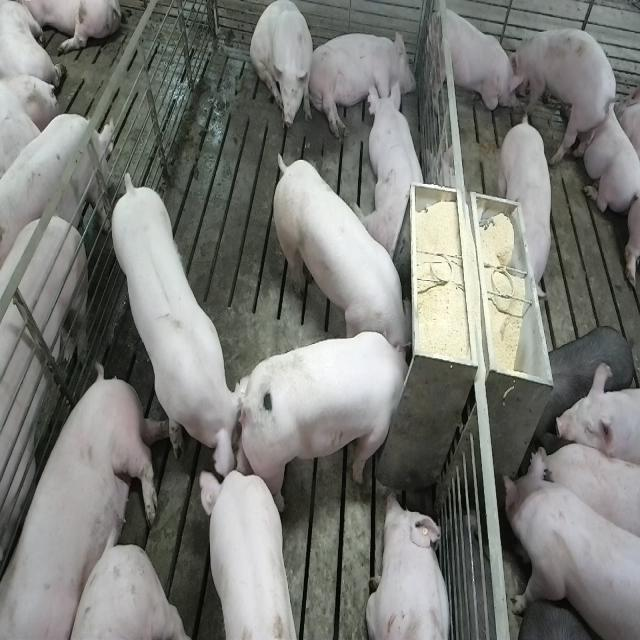Feeding: (236, 327, 414, 516), (272, 149, 417, 354)
Lateral_lying: (0, 362, 169, 640), (306, 29, 420, 140)
Sitting: (250, 0, 314, 137)
Standing: (110, 172, 240, 488), (0, 216, 93, 534), (502, 454, 640, 639), (0, 106, 118, 258), (196, 462, 296, 640), (508, 29, 620, 178), (527, 429, 640, 544), (536, 315, 636, 434), (499, 113, 559, 304), (555, 366, 640, 458)
Sternal_lying: (352, 76, 429, 262), (366, 486, 451, 640), (429, 2, 519, 116), (577, 98, 640, 234)
